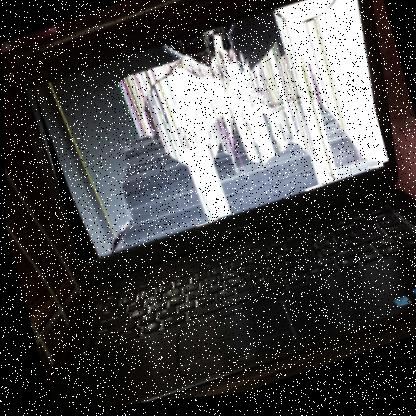crack: (30, 0, 390, 271)
